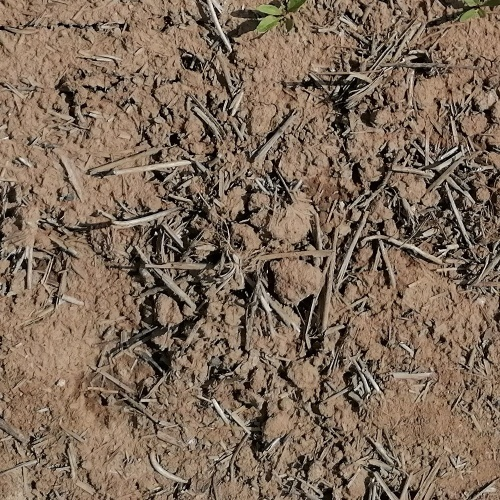beet: (255, 0, 308, 32), (453, 0, 500, 23)
